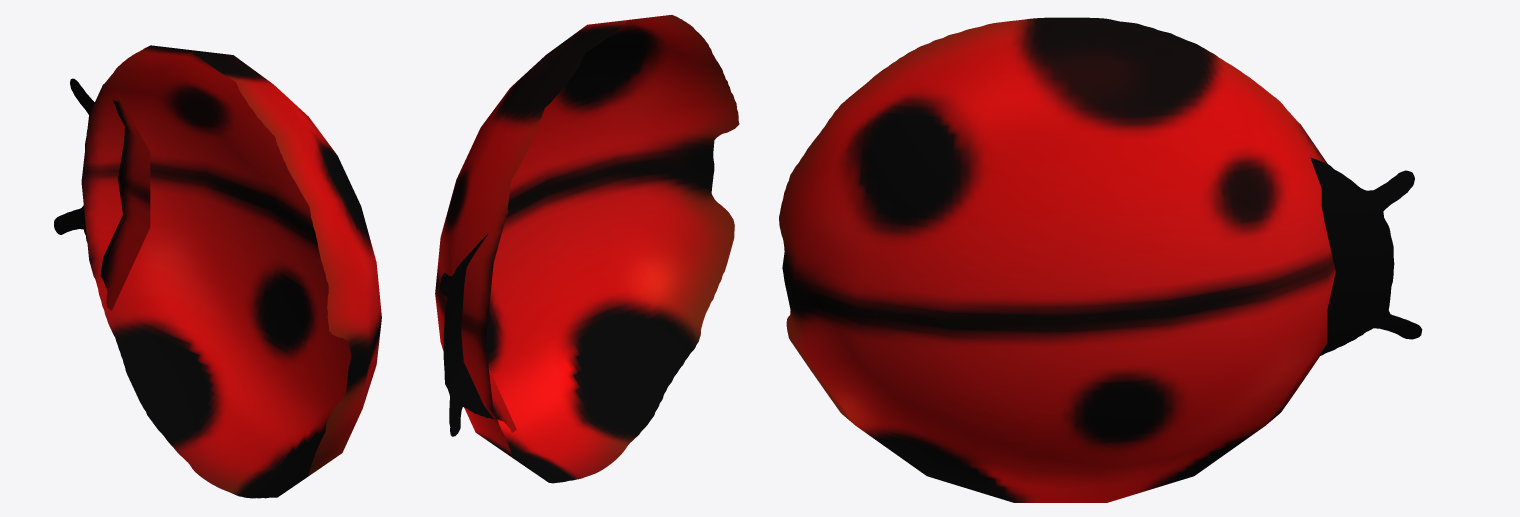
File: m_ladybug.fbx
The picture shows the model from 3 angles, left to right: view 1: azimuth 30°, elevation 25°; view 2: azimuth 150°, elevation 25°; view 3: azimuth 270°, elevation 25°; orthographic projection. The views are drawn at different scales.
Visible parts, largest first — view 1: m_ladybug; view 2: m_ladybug; view 3: m_ladybug.
Boxes of the visible parts, <box> form: m_ladybug: <box>54,45,381,498</box>; m_ladybug: <box>435,15,739,483</box>; m_ladybug: <box>779,17,1422,502</box>.
Size of the model in its own units: 1.21 by 3.94 by 5.46.
